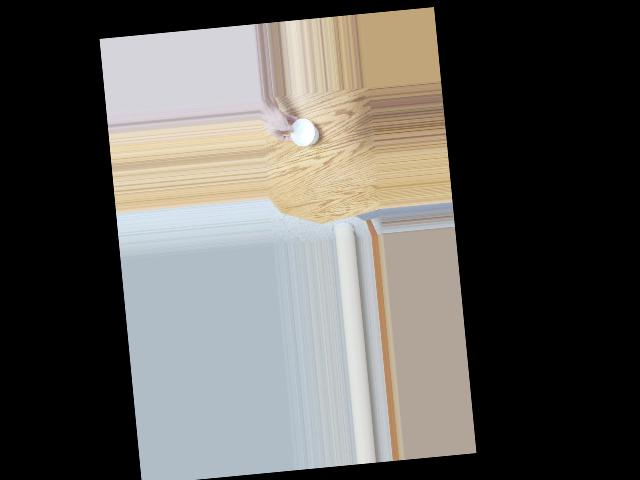cotage: (284, 112, 319, 152)
